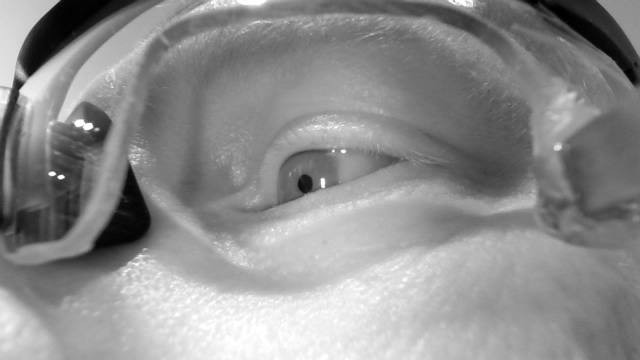pupil: (297, 173, 314, 195)
